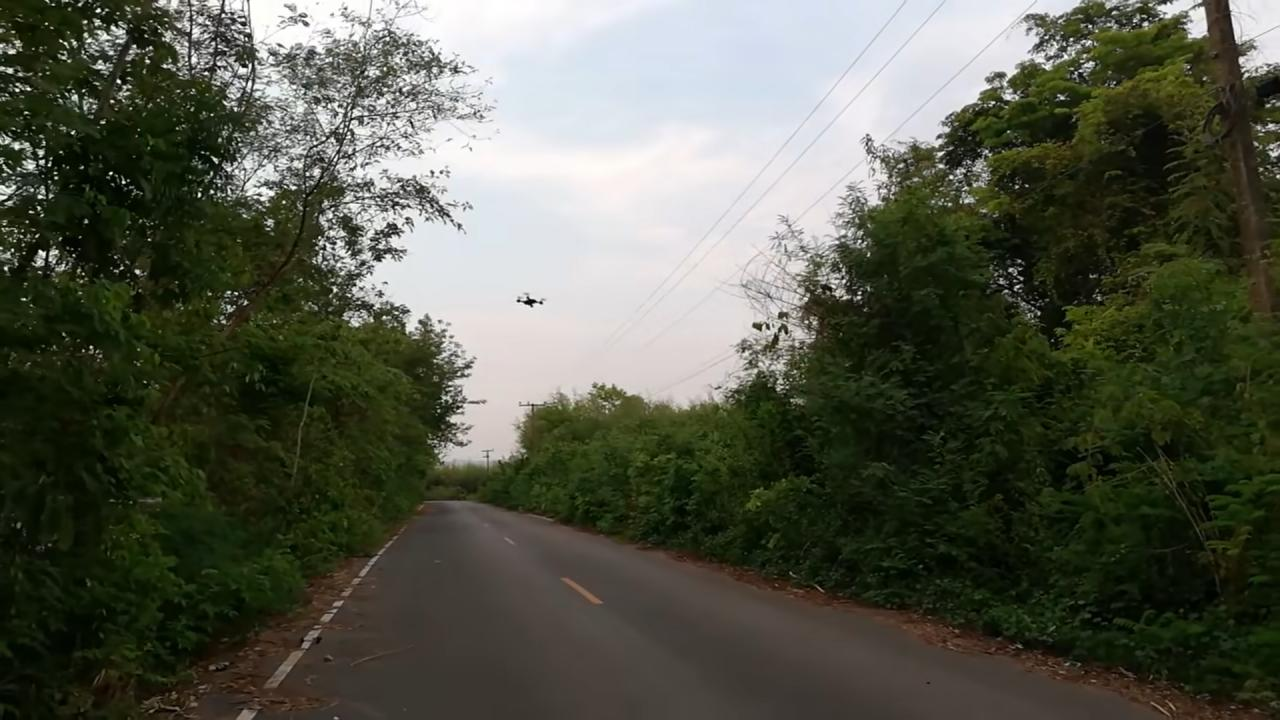Drone: (504, 286, 554, 314)
